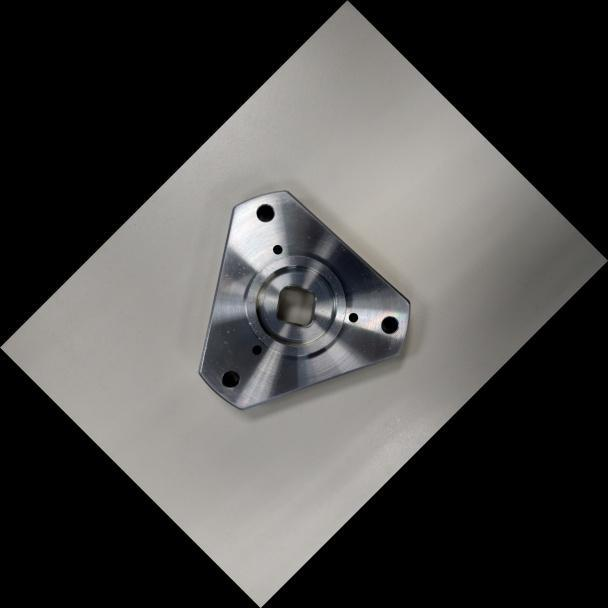hole: (215, 363, 246, 395), (250, 197, 280, 227), (374, 310, 404, 339), (268, 240, 286, 258), (344, 308, 361, 326), (248, 341, 265, 358)
